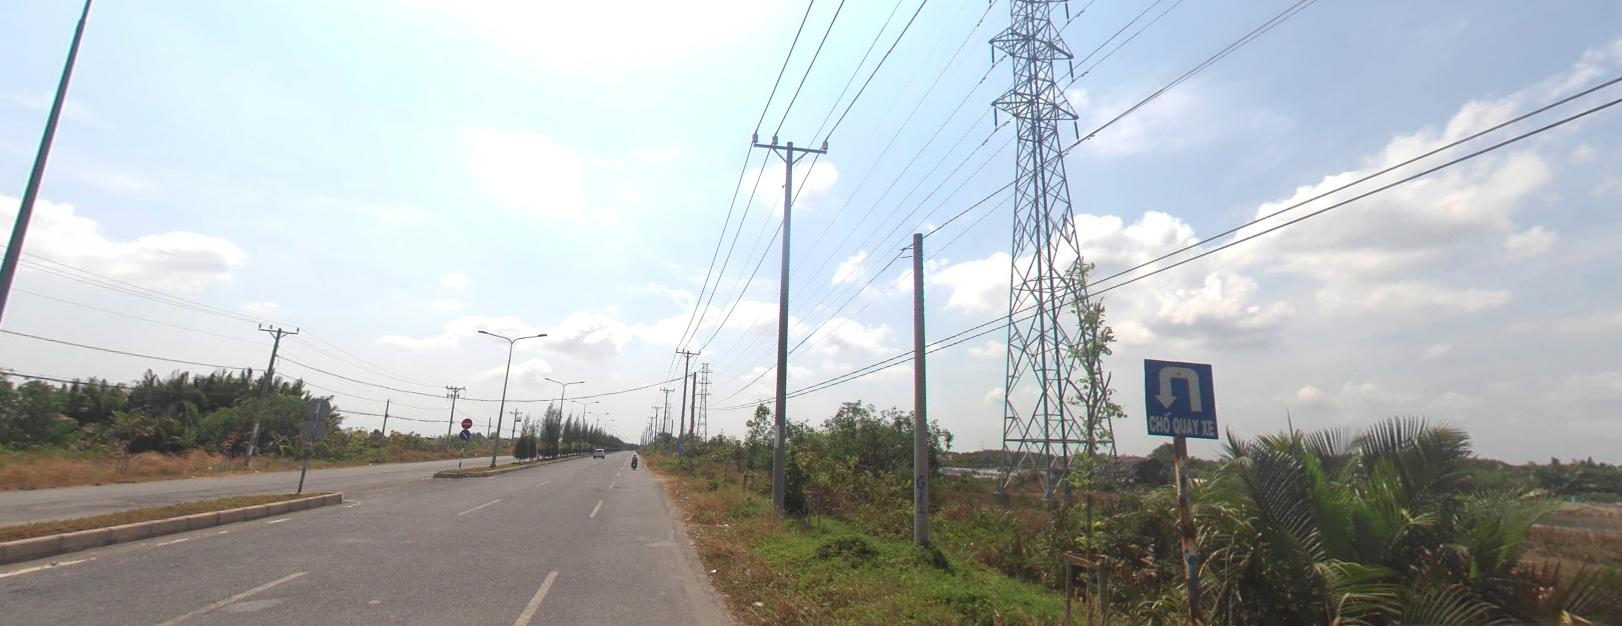Cam nguoc chieu: (461, 416, 472, 427)
Hieu lenh: (459, 428, 470, 438)
